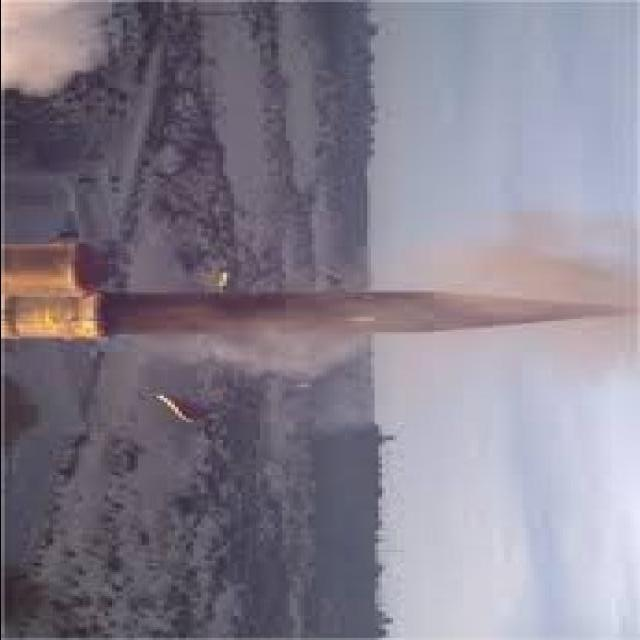Missile: (96, 290, 631, 339)
